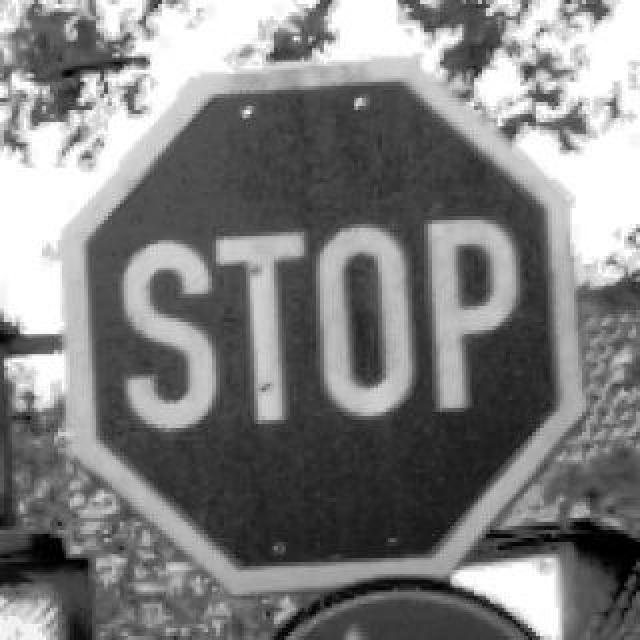stop: (58, 58, 586, 596)
